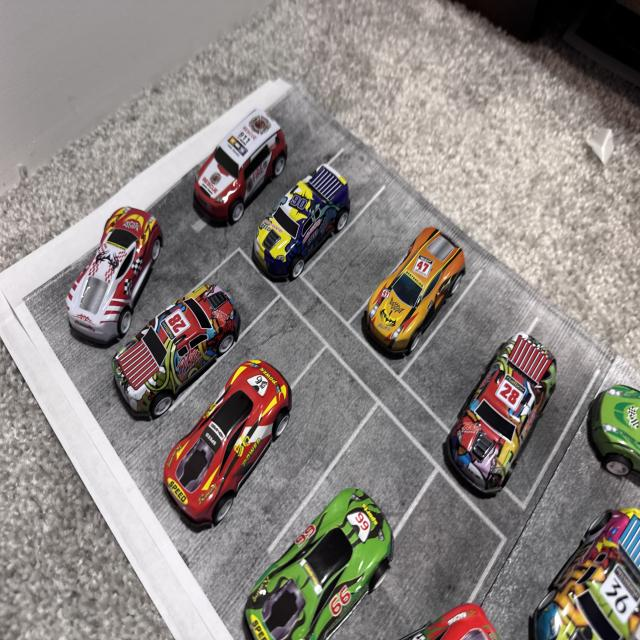Car: (240, 461, 410, 640), (314, 235, 488, 399), (181, 333, 301, 568), (458, 337, 598, 522), (110, 270, 258, 443), (534, 482, 640, 640), (68, 196, 171, 355), (171, 104, 296, 230), (258, 164, 375, 298), (389, 588, 524, 640), (575, 366, 640, 467)
